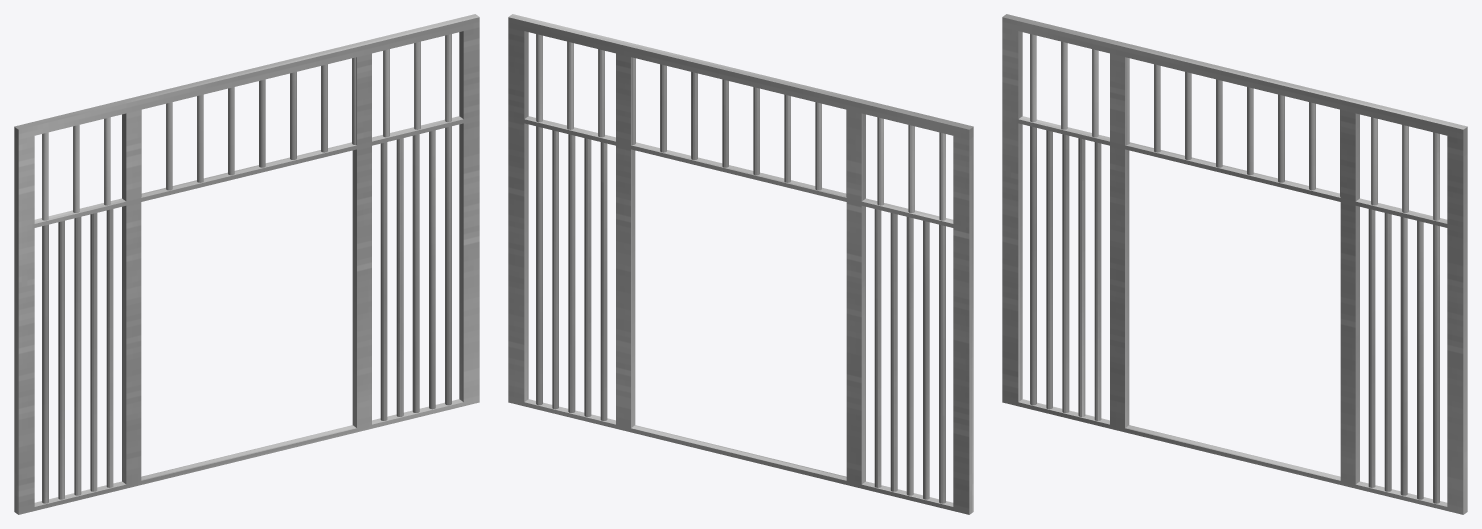
The model's file is Marco_Puerta.fbx.
3 renders of one model, left to right at view 1: azimuth 30°, elevation 25°; view 2: azimuth 150°, elevation 25°; view 3: azimuth 330°, elevation 25°, orthographic.
Visible parts, largest first — view 1: Marco_puerta; view 2: Marco_puerta; view 3: Marco_puerta.
Part boxes in pixels (bbox=[...]): Marco_puerta: bbox=[14, 14, 479, 514]; Marco_puerta: bbox=[508, 14, 973, 514]; Marco_puerta: bbox=[1002, 14, 1467, 514].
Bounding box in the file's own units: 372 × 297 × 6.08.
1 material, 1 textured.
